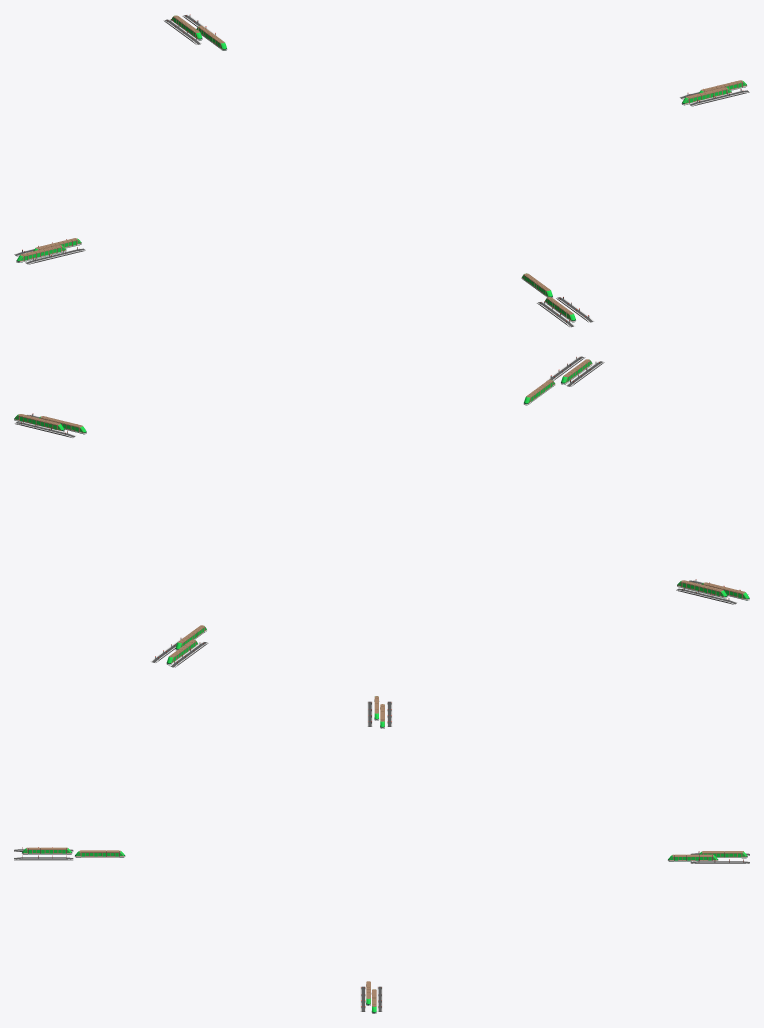
Rendered from tram.gltf.
3 views of the same model, one above another, from view 1: azimuth 30°, elevation 25°; view 2: azimuth 150°, elevation 25°; view 3: azimuth 270°, elevation 25° (orthographic). The views are drawn at different scales.
Bounding box in the file's own units: 3.9 × 0.0305 × 3.86.
